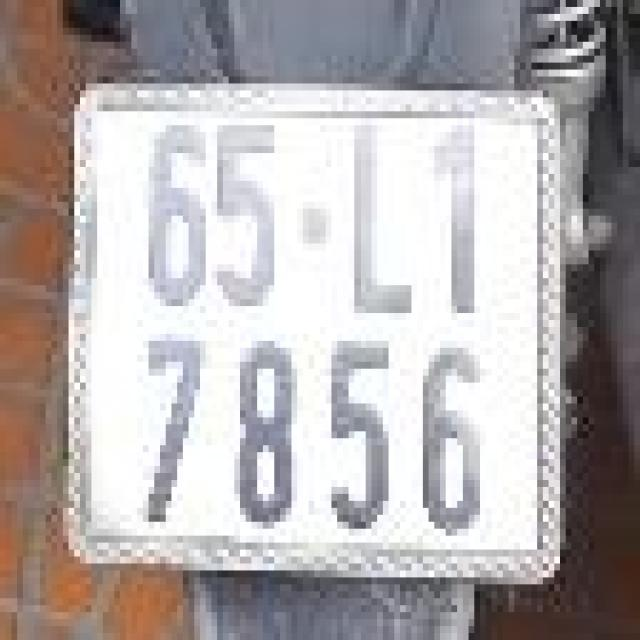1: (431, 111, 500, 313)
5: (203, 111, 294, 313), (332, 331, 417, 546)
6: (426, 331, 511, 539), (134, 118, 214, 313)
7: (151, 337, 220, 560)
8: (226, 341, 317, 549)
L: (340, 115, 426, 316)
